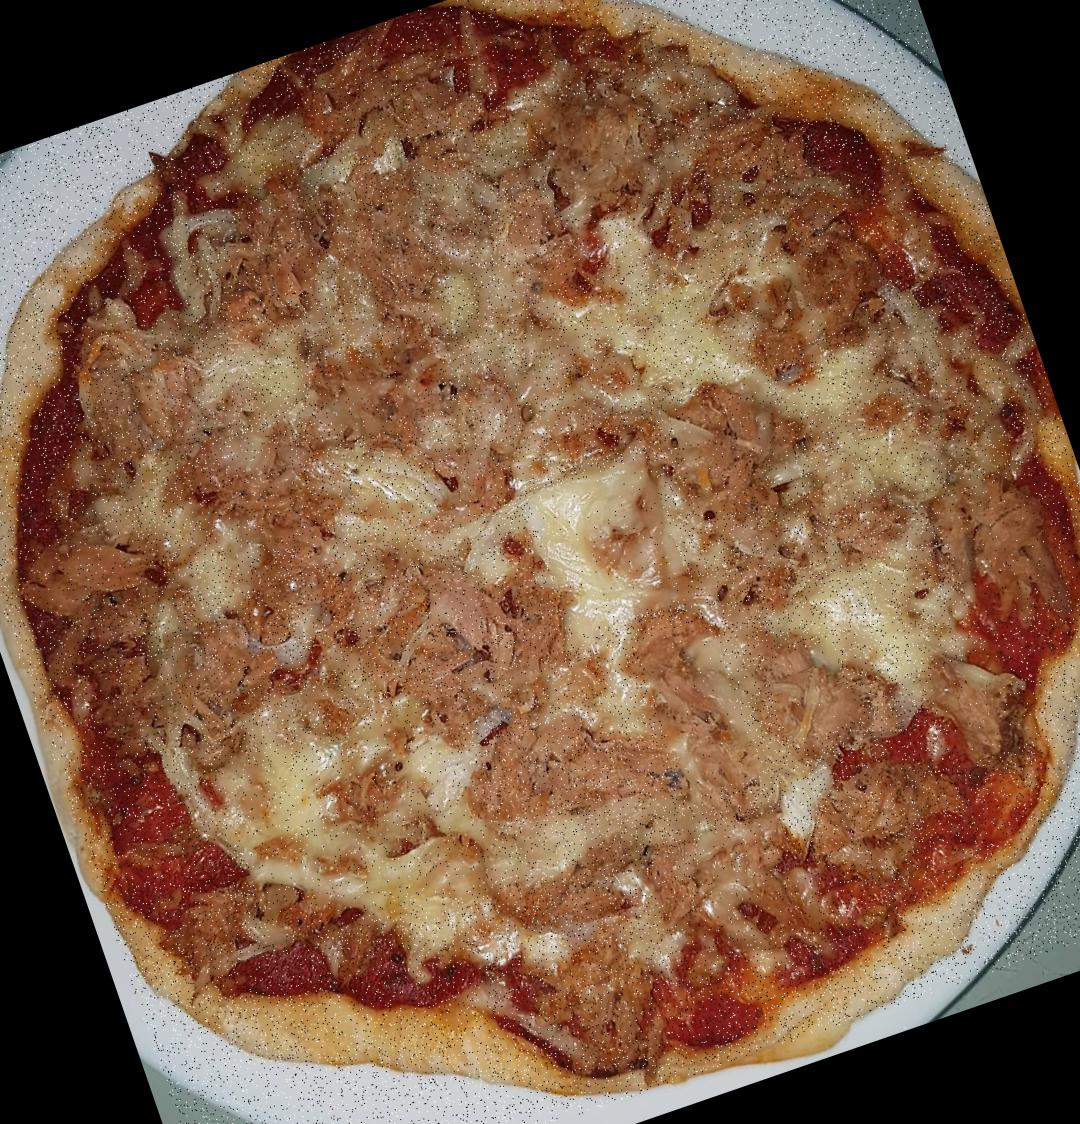Cheese: (217, 695, 512, 953), (474, 229, 712, 438), (527, 457, 693, 635)
Chicken: (384, 558, 573, 733), (650, 810, 821, 965), (634, 617, 761, 801), (91, 624, 270, 747), (935, 471, 1069, 622), (67, 308, 208, 449), (666, 372, 803, 517), (485, 702, 638, 817), (196, 437, 325, 571), (539, 80, 662, 219), (543, 930, 666, 1063), (751, 239, 891, 352), (219, 190, 332, 321), (18, 519, 154, 627), (316, 336, 451, 445), (316, 33, 460, 132), (929, 646, 1031, 766), (345, 171, 430, 300), (696, 114, 810, 208), (763, 638, 858, 743), (837, 754, 942, 831), (425, 443, 520, 521)
Pizza: (0, 0, 1080, 1124)
